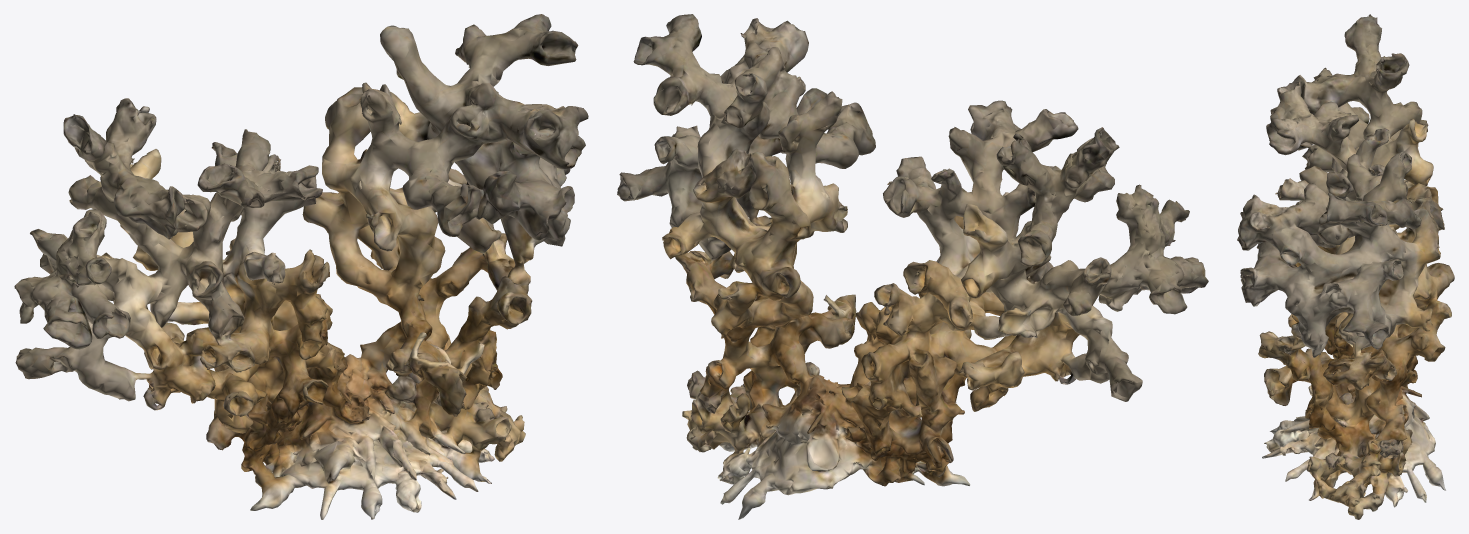
File: snail_coral.glb
3 renders of one model, left to right at view 1: azimuth 30°, elevation 25°; view 2: azimuth 150°, elevation 25°; view 3: azimuth 270°, elevation 25°, orthographic. The views are drawn at different scales.
Parts seen in each view (by area): view 1: Object_2; view 2: Object_2; view 3: Object_2.
Boxes of the visible parts, x1=… form: Object_2: x1=14, y1=14, x2=588, y2=519; Object_2: x1=617, y1=14, x2=1208, y2=519; Object_2: x1=1237, y1=14, x2=1454, y2=519.
Bounding box in the file's own units: 1.33 × 0.9985 × 0.5595.
Materials: 1 (1 with a texture image).
